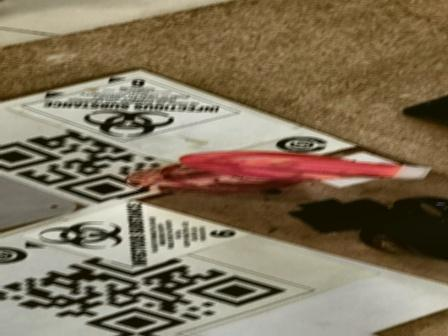infectious-substance: (1, 74, 270, 143), (19, 199, 260, 267)
